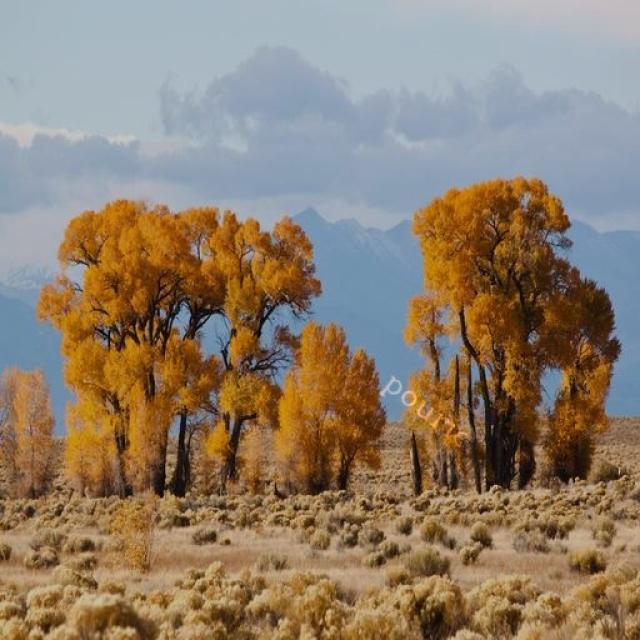watermark: (374, 362, 485, 456)
